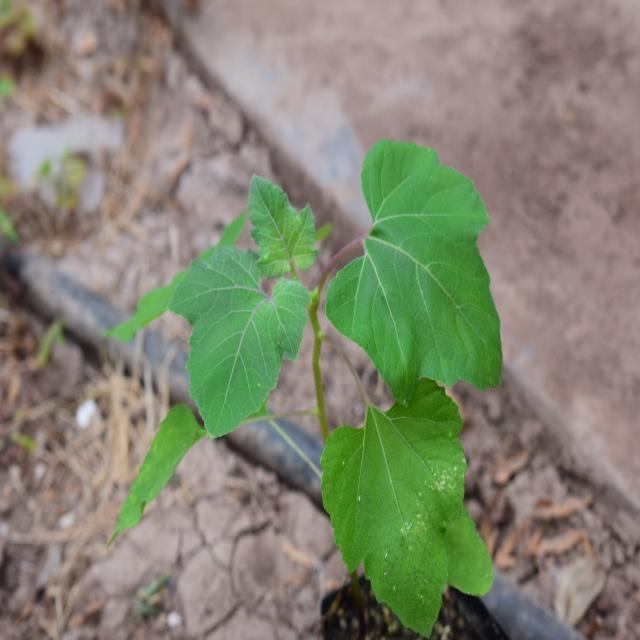cocklebur: (110, 117, 489, 591)
